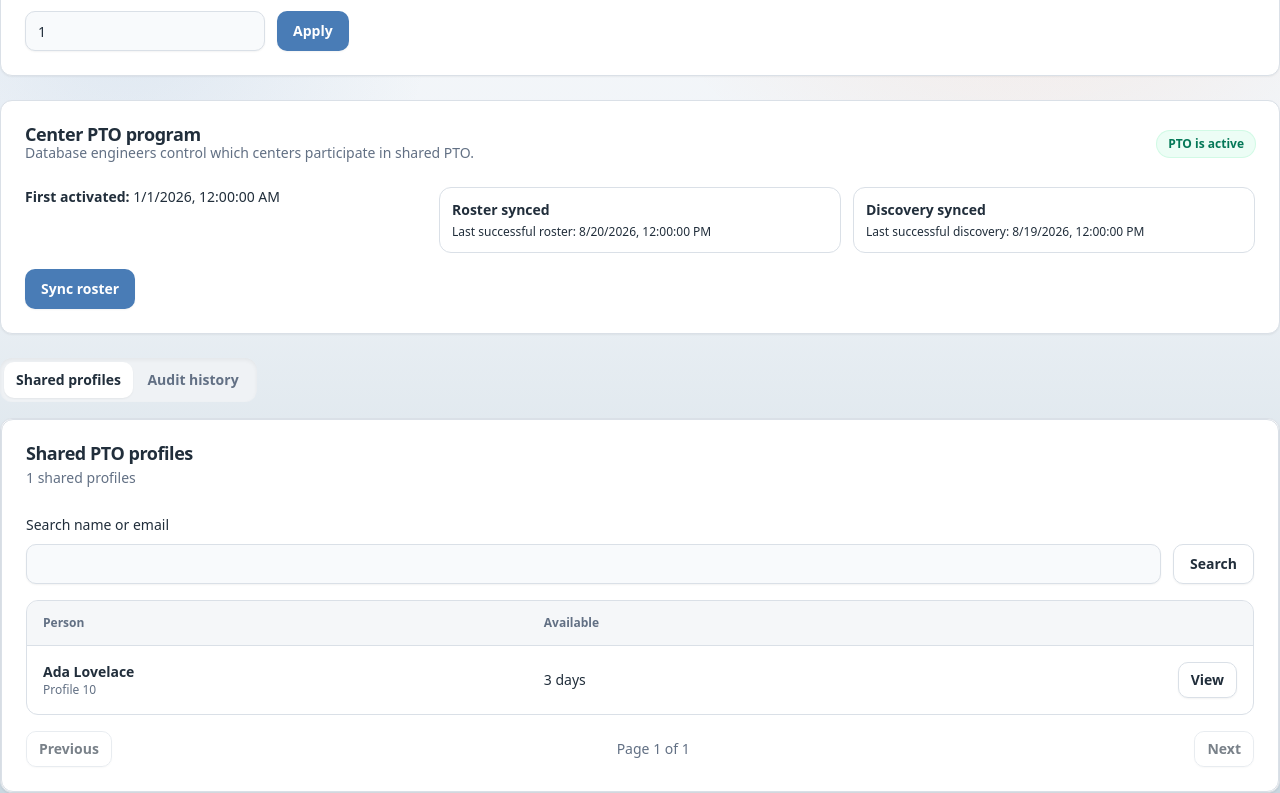
it: PTO management › shows profile membership, email, ledger, request, and legacy match details without profile identity status
(page scrolled)
Check: the text "Ada Lovelace" is shown, box [43,662,134,680]
Click the button with aria-label "View Ada Lovelace": click(1207, 680) [1178,662,1237,698]
(page scrolled)
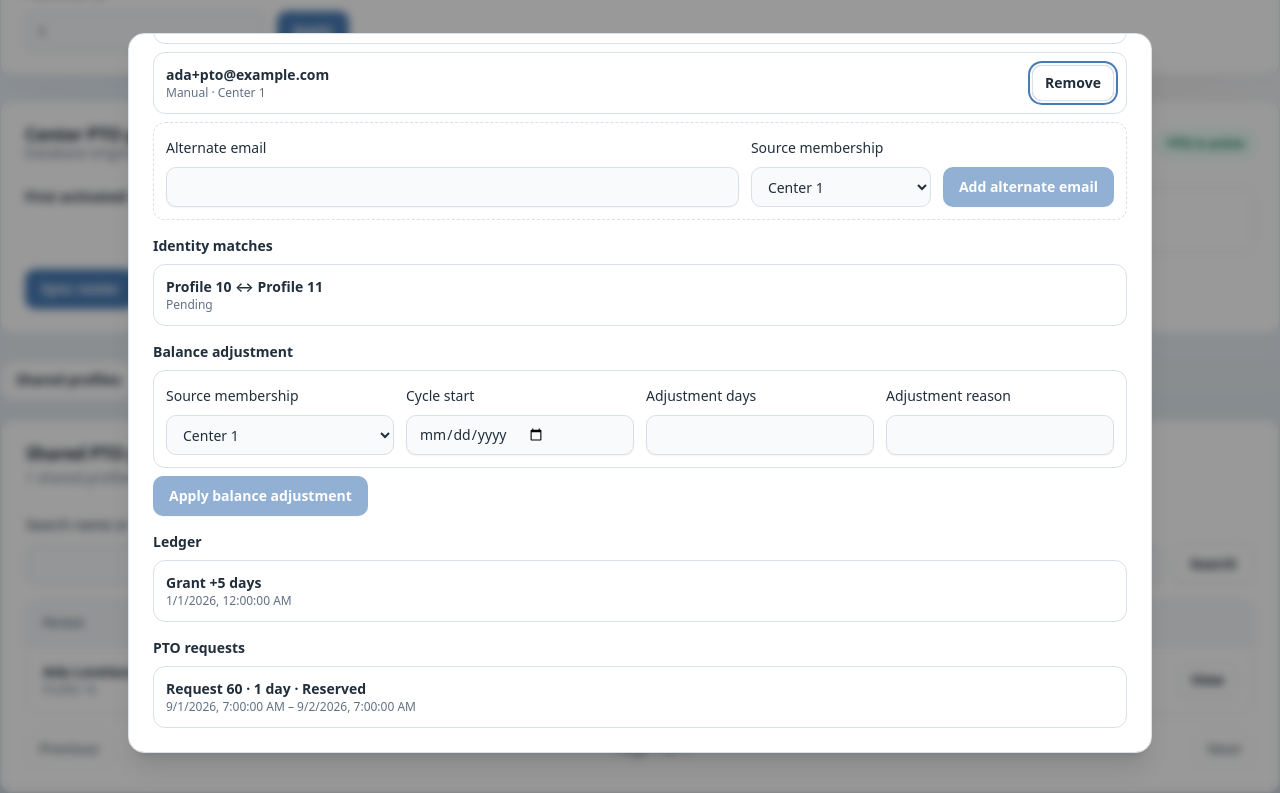
Check: the heading "Identity matches" is shown, box [153,236,273,255]
Check: the text "ada+pto@example.com" is shown, box [166,65,329,85]
Check: the text "Profile 10 ↔ Profile 11" is shown, box [166,277,323,296]
